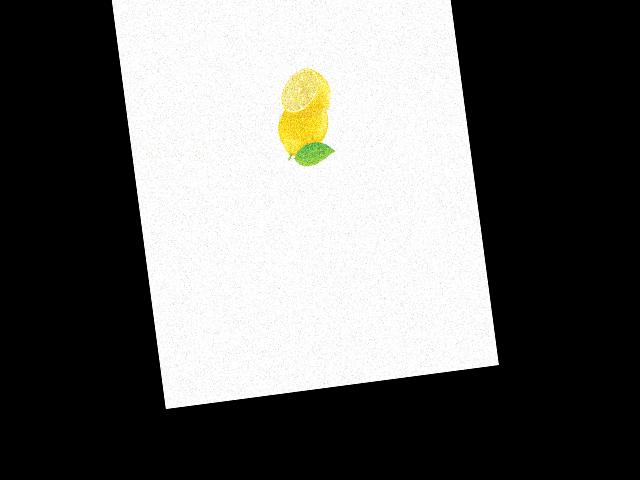lemon: (274, 103, 334, 162)
